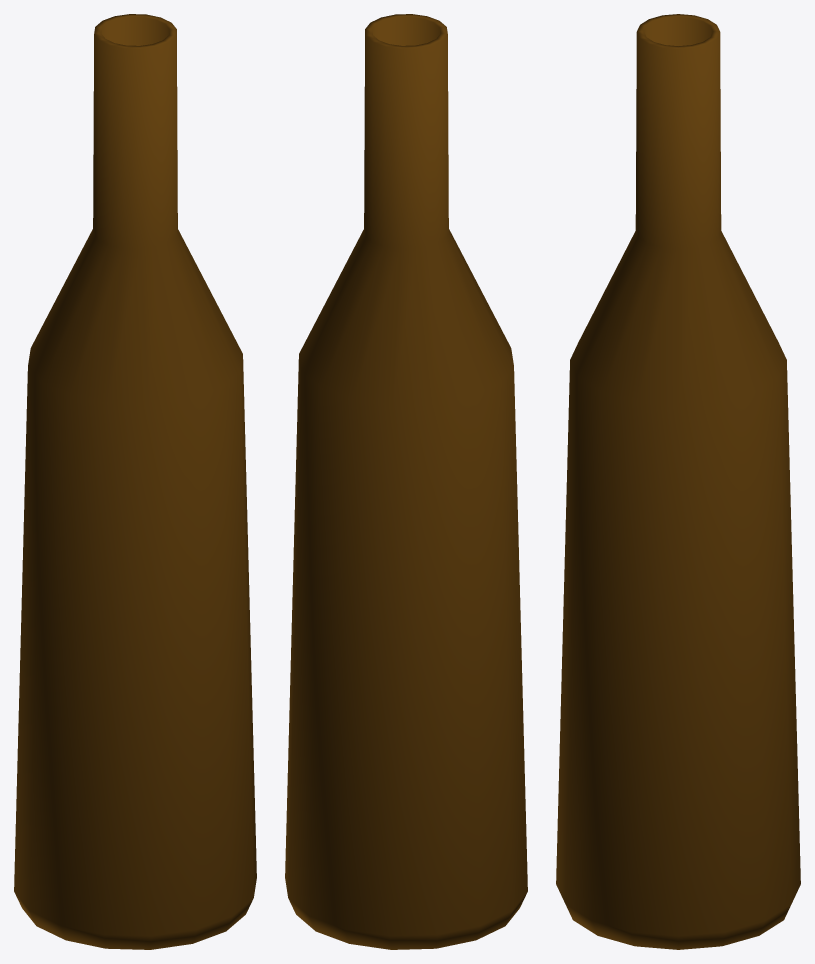
File: Bottiglia2.FBX
3 views of the same model, side by side, from view 1: azimuth 30°, elevation 25°; view 2: azimuth 150°, elevation 25°; view 3: azimuth 270°, elevation 25° (orthographic).
Visible parts, largest first — view 1: Bottiglia2; view 2: Bottiglia2; view 3: Bottiglia2.
Part boxes in pixels (left/top/right/bottom): Bottiglia2: left=14, top=14, right=256, bottom=949; Bottiglia2: left=285, top=14, right=527, bottom=949; Bottiglia2: left=556, top=14, right=800, bottom=949.
Bounding box in the file's own units: 8.15 × 31.94 × 8.15.
